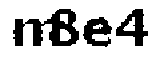4: (115, 7, 150, 48)
8: (50, 4, 81, 50)
e: (82, 13, 110, 51)
m: (11, 15, 58, 53)
